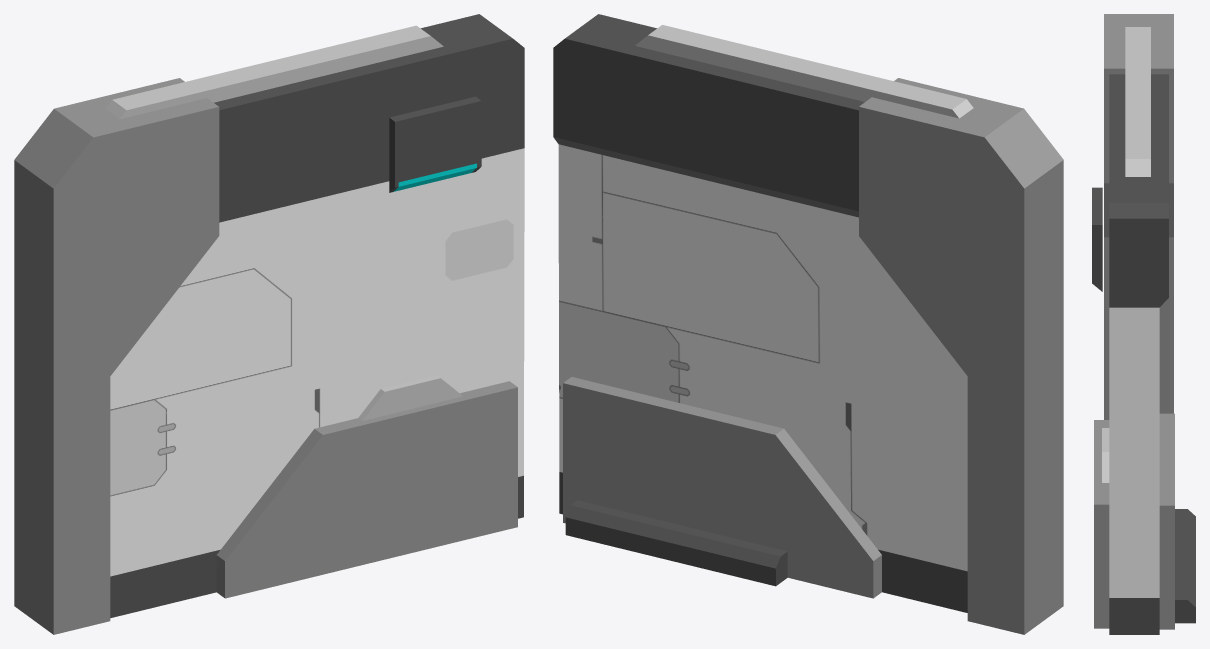
Rendered from SM_Divider_1.fbx.
3 renders of one model, left to right at view 1: azimuth 30°, elevation 25°; view 2: azimuth 150°, elevation 25°; view 3: azimuth 270°, elevation 25°, orthographic. The views are drawn at different scales.
Visible parts, largest first — view 1: SM_Divider_1; view 2: SM_Divider_1; view 3: SM_Divider_1.
Boxes of the visible parts, box(x1,y1,x2,y2) form: SM_Divider_1: box(14, 14, 524, 634); SM_Divider_1: box(553, 14, 1063, 634); SM_Divider_1: box(1092, 14, 1195, 634).
Size of the model in its own units: 155 by 154 by 33.07.
